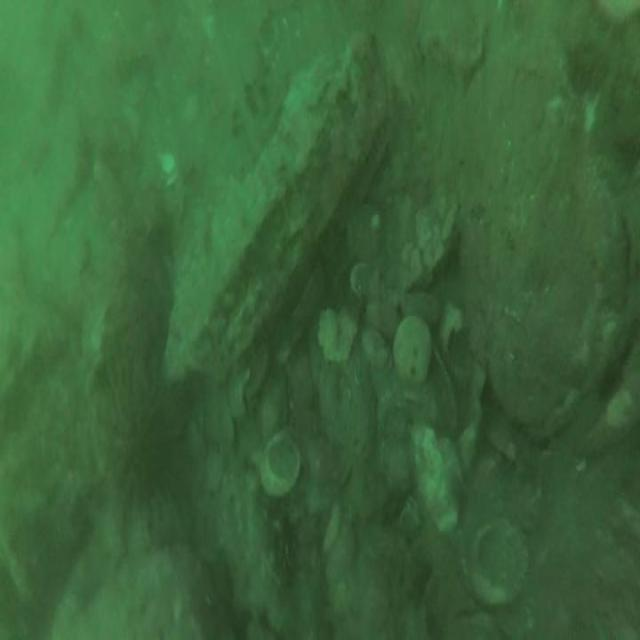echinus: (98, 382, 173, 506)
